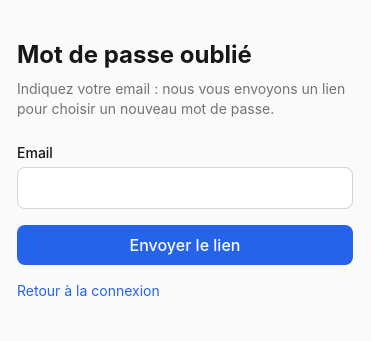
it: ForgotPasswordPage › surfaces a throttled request instead of a false confirmation
Type "k@acme.dz" into the field labelled "Email" at (185, 188), box left=17, top=167, right=353, bottom=209
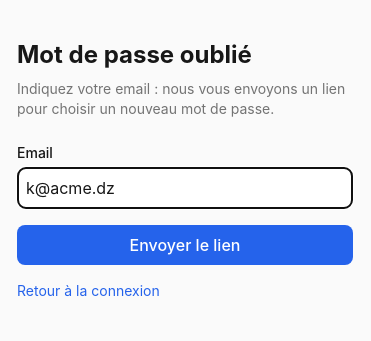
Click the button "Envoyer le lien" at (185, 245), box left=17, top=225, right=353, bottom=265
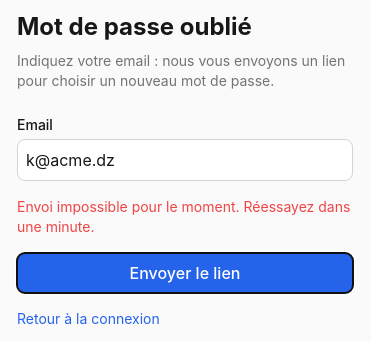
Result: the message shows "impossible" at left=17, top=198, right=350, bottom=235
